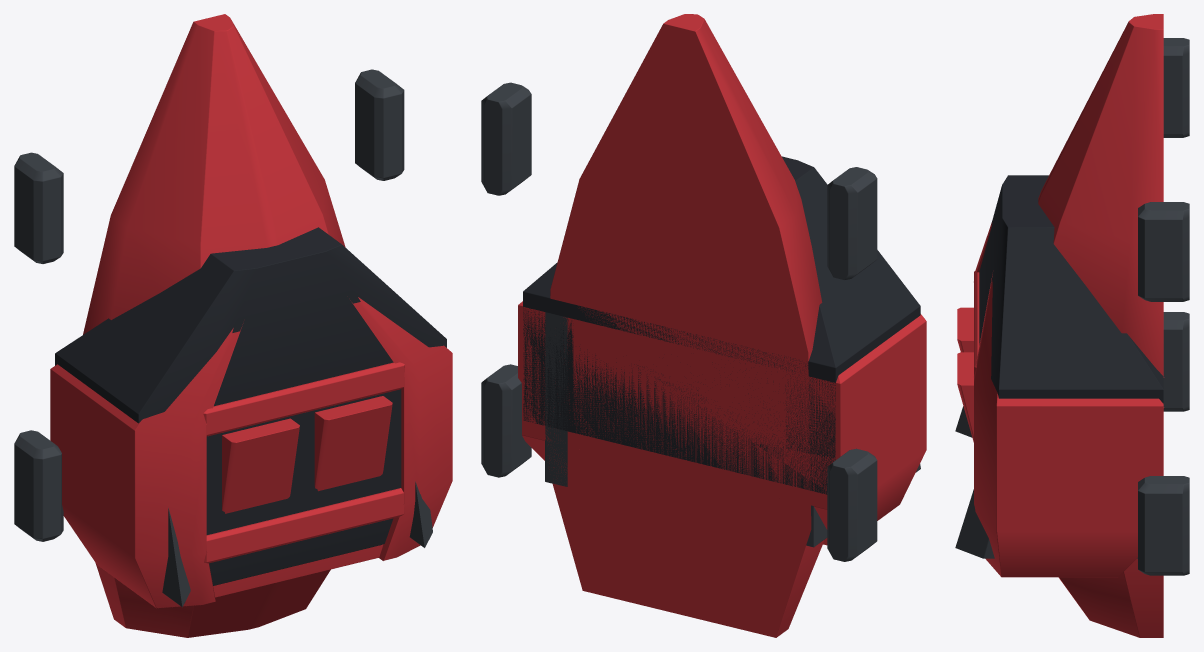
Rendered from CalfFront_Set05_Afterburn.fbx.
The picture shows the model from 3 angles, left to right: view 1: azimuth 30°, elevation 25°; view 2: azimuth 150°, elevation 25°; view 3: azimuth 270°, elevation 25°; orthographic projection. The views are drawn at different scales.
Visible parts, largest first — view 1: CalfFront_Set05_Afterburn; view 2: CalfFront_Set05_Afterburn; view 3: CalfFront_Set05_Afterburn.
Boxes of the visible parts, box(x1,y1,x2,y2) form: CalfFront_Set05_Afterburn: box(14, 14, 452, 637); CalfFront_Set05_Afterburn: box(481, 14, 926, 637); CalfFront_Set05_Afterburn: box(955, 14, 1189, 637).
Bounding box in the file's own units: 0.49 × 0.73 × 0.2717.
